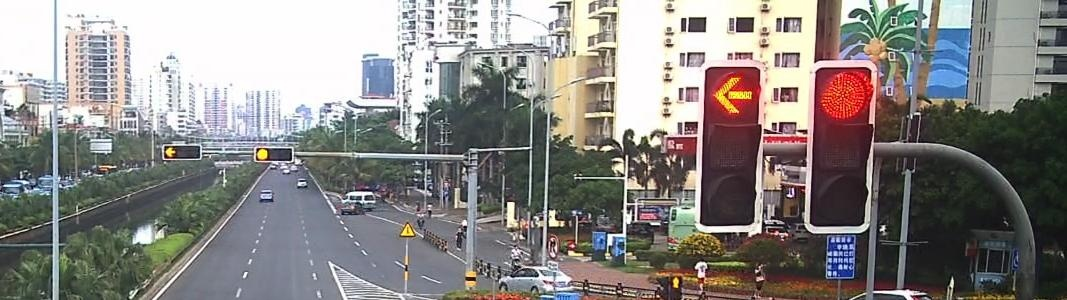red: (817, 67, 873, 123), (256, 147, 270, 159)
redleft: (709, 70, 761, 117), (162, 146, 177, 158)
redpeople: (669, 274, 683, 292)
